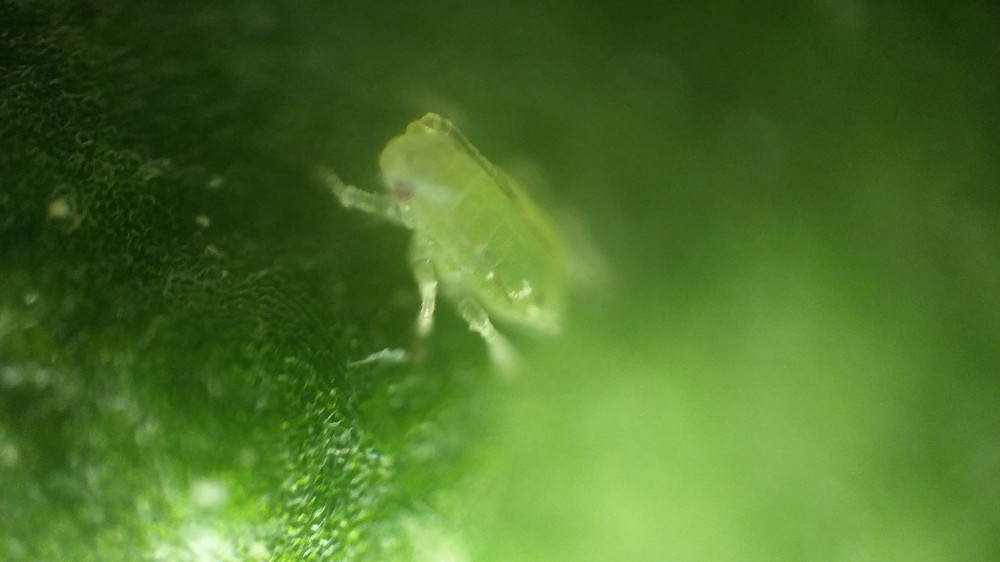Pulgon: (295, 76, 654, 417)
